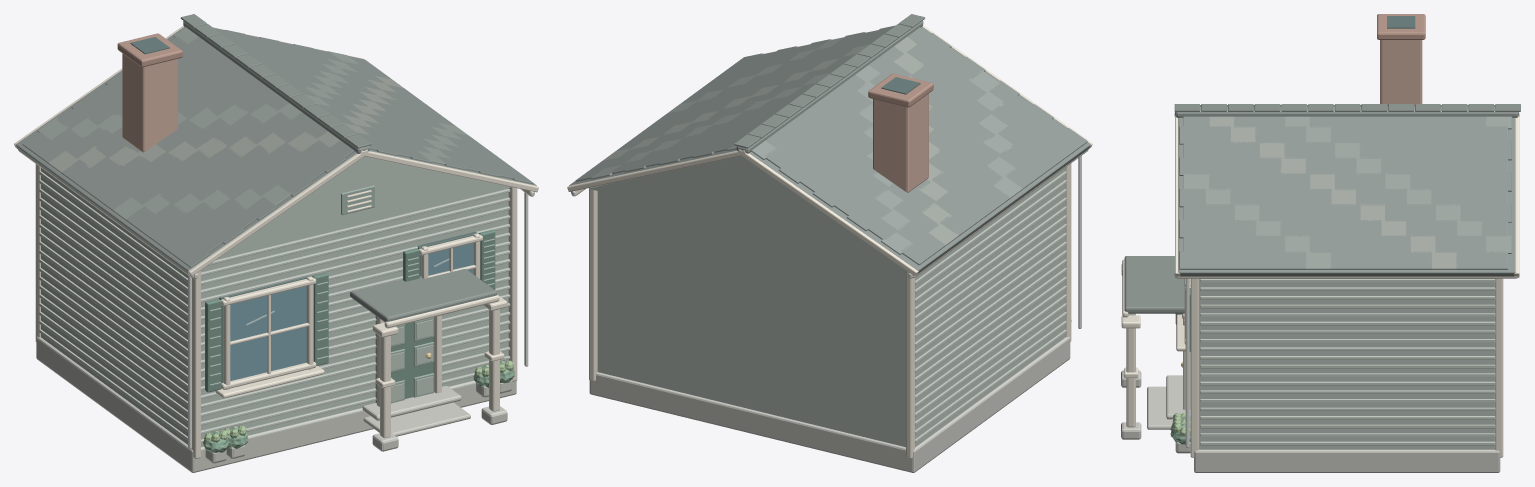
File: maple_craftsman_house.glb
The picture shows the model from 3 angles, left to right: view 1: azimuth 30°, elevation 25°; view 2: azimuth 150°, elevation 25°; view 3: azimuth 270°, elevation 25°; orthographic projection. The views are drawn at different scales.
Parts seen in each view (by area): view 1: Maple Craftsman House_roof, Maple Craftsman House_sage, Maple Craftsman House_sage_edge, Maple Craftsman House_ivory, Maple Craftsman House_basement, Maple Craftsman House_roof2, Maple Craftsman House_glass, Maple Craftsman House_shutter, Maple Craftsman House_brick, Maple Craftsman House_roof3, Maple Craftsman House_sage_dark, Maple Craftsman House_gutter (+4 smaller); view 2: Maple Craftsman House_sage, Maple Craftsman House_roof, Maple Craftsman House_sage_edge, Maple Craftsman House_basement, Maple Craftsman House_ivory, Maple Craftsman House_roof2, Maple Craftsman House_brick, Maple Craftsman House_roof3, Maple Craftsman House_brick_dark, Maple Craftsman House_gutter; view 3: Maple Craftsman House_roof, Maple Craftsman House_sage, Maple Craftsman House_sage_edge, Maple Craftsman House_basement, Maple Craftsman House_roof2, Maple Craftsman House_ivory, Maple Craftsman House_roof3, Maple Craftsman House_brick, Maple Craftsman House_brick_dark, Maple Craftsman House_gutter.
Boxes of the visible parts, left/top/right/bottom form: Maple Craftsman House_roof: left=16, top=14, right=536, bottom=321; Maple Craftsman House_sage: left=41, top=156, right=510, bottom=446; Maple Craftsman House_sage_edge: left=39, top=171, right=510, bottom=450; Maple Craftsman House_ivory: left=14, top=26, right=538, bottom=458; Maple Craftsman House_basement: left=36, top=336, right=516, bottom=472; Maple Craftsman House_roof2: left=37, top=21, right=468, bottom=220; Maple Craftsman House_glass: left=230, top=243, right=473, bottom=380; Maple Craftsman House_shutter: left=205, top=229, right=495, bottom=398; Maple Craftsman House_brick: left=122, top=53, right=177, bottom=152; Maple Craftsman House_roof3: left=48, top=76, right=403, bottom=173; Maple Craftsman House_sage_dark: left=209, top=185, right=494, bottom=403; Maple Craftsman House_gutter: left=188, top=191, right=534, bottom=448; Maple Craftsman House_sage: left=589, top=156, right=1065, bottom=447; Maple Craftsman House_roof: left=569, top=14, right=1090, bottom=273; Maple Craftsman House_sage_edge: left=915, top=171, right=1066, bottom=443; Maple Craftsman House_basement: left=589, top=336, right=1070, bottom=472; Maple Craftsman House_ivory: left=567, top=25, right=1092, bottom=458; Maple Craftsman House_roof2: left=590, top=20, right=1022, bottom=254; Maple Craftsman House_brick: left=873, top=93, right=928, bottom=192; Maple Craftsman House_roof3: left=603, top=37, right=958, bottom=245; Maple Craftsman House_brick_dark: left=868, top=73, right=933, bottom=107; Maple Craftsman House_gutter: left=572, top=155, right=1081, bottom=328; Maple Craftsman House_roof: left=1124, top=104, right=1520, bottom=313; Maple Craftsman House_sage: left=1199, top=278, right=1494, bottom=449; Maple Craftsman House_sage_edge: left=1200, top=279, right=1495, bottom=445; Maple Craftsman House_basement: left=1121, top=314, right=1500, bottom=472; Maple Craftsman House_roof2: left=1175, top=105, right=1518, bottom=269; Maple Craftsman House_ivory: left=1121, top=112, right=1519, bottom=457; Maple Craftsman House_roof3: left=1209, top=105, right=1457, bottom=269; Maple Craftsman House_brick: left=1380, top=40, right=1422, bottom=106; Maple Craftsman House_brick_dark: left=1377, top=14, right=1425, bottom=39; Maple Craftsman House_gutter: left=1174, top=113, right=1519, bottom=447.
Size of the model in its own units: 13.1 by 12.04 by 13.31.
